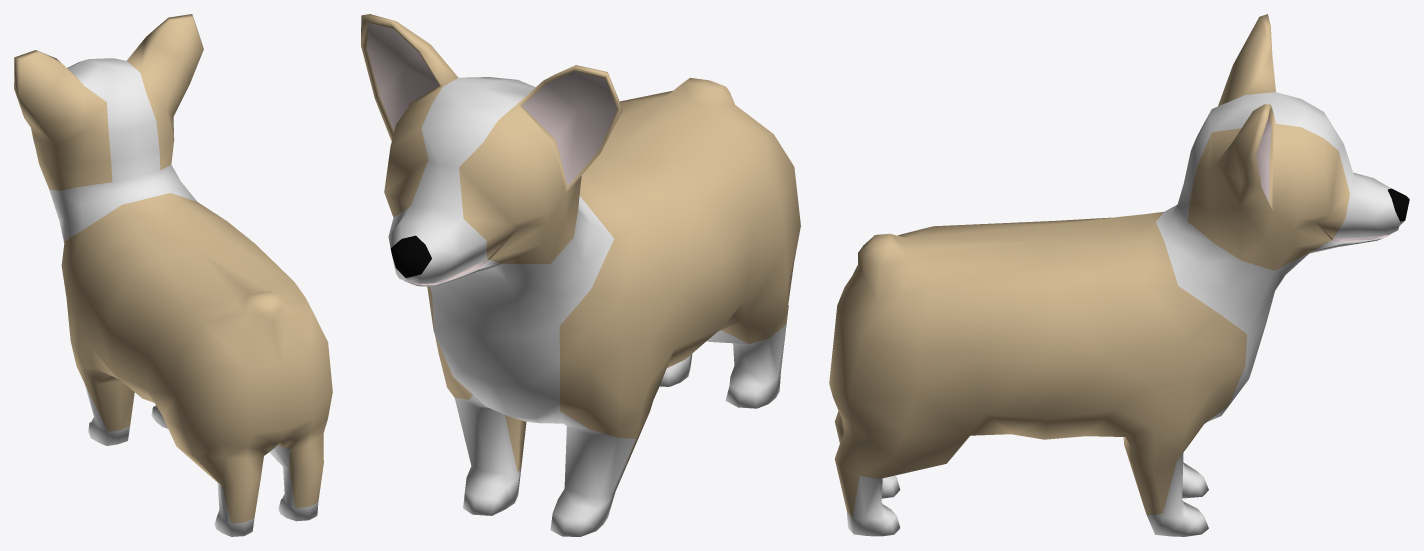
Rendered from corgi3.dae.
3 renders of one model, left to right at view 1: azimuth 30°, elevation 25°; view 2: azimuth 150°, elevation 25°; view 3: azimuth 270°, elevation 25°, orthographic. The views are drawn at different scales.
Parts seen in each view (by area): view 1: Corgi_body1; view 2: Corgi_body1; view 3: Corgi_body1.
Part boxes in pixels (<box>): Corgi_body1: <box>14,14,332,536</box>; Corgi_body1: <box>361,14,800,536</box>; Corgi_body1: <box>829,14,1409,536</box>.
Size of the model in its own units: 0.3637 by 0.8038 by 0.6782.
